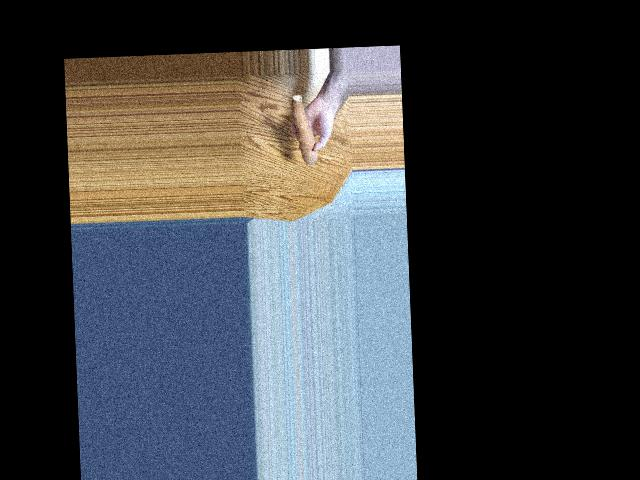sweet_potato: (291, 96, 315, 170)
